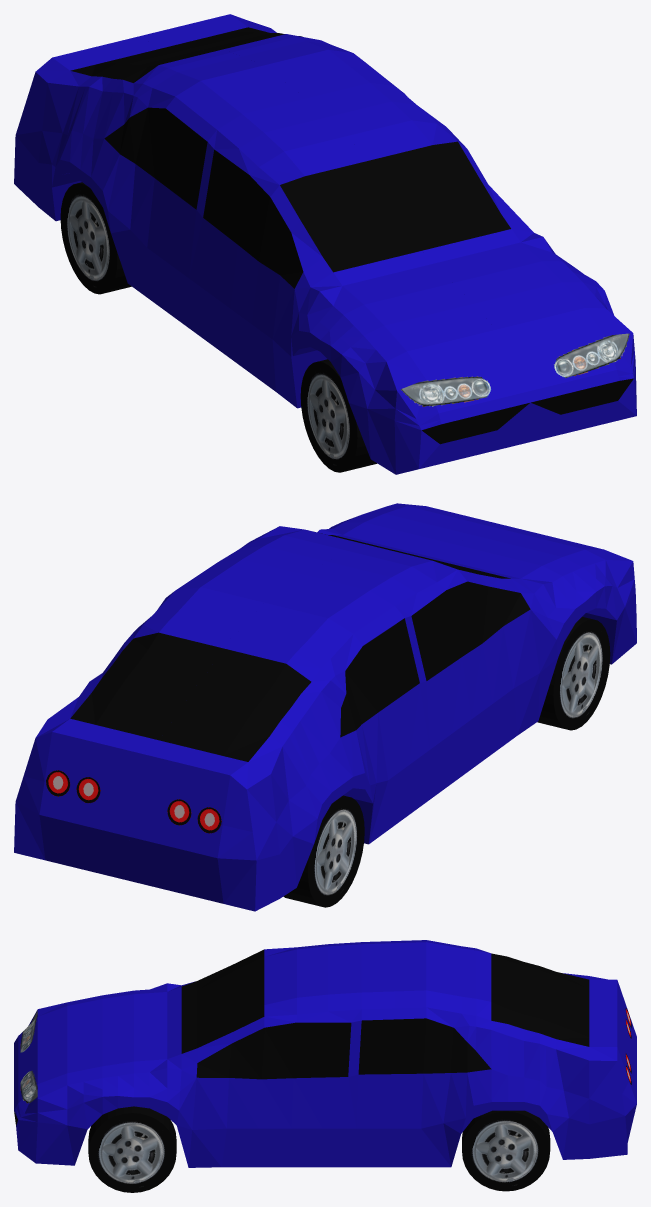
Rendered from car.obj.
3 views of the same model, one above another, from view 1: azimuth 30°, elevation 25°; view 2: azimuth 150°, elevation 25°; view 3: azimuth 270°, elevation 25° (orthographic). The views are drawn at different scales.
Visible parts, largest first — view 1: Cube_Cube.001_Materia, Cube.002_Cube.001, Cube_Cube.001_Mat, Cube.002_Cube.002_Cube.002_Cube.001, Cylinder.005_Cyli, Cylinder.004_Cyli, Cube_Cube.001_Mat.002, Cube.002_Cube.001_Mat; view 2: Cube_Cube.001_Materia, Cube.002_Cube.001, Cube_Cube.001_Mat, Cube.002_Cube.002_Cube.002_Cube.001, Cube_Cube.001_Mat.001, Cube.002_Cube_Cube.002_Cube.001, Cylinder.005_Cyli, Cylinder.004_Cyli, Cylinder.005_Cylinder; view 3: Cube.002_Cube.001, Cube.002_Cube.002_Cube.002_Cube.001, Cube_Cube.001_Materia, Cube_Cube.001_Mat, Cylinder.003_Cylinder, Cylinder_Cylinder.001, Cylinder.003_Cyli, Cube.002_Cube.001_Mat, Cylinder_Cylinder, Cube_Cube.001_Mat.002, Cube.002_Cube_Cube.002_Cube.001, Cube_Cube.001_Mat.001.
Part boxes in pixels (x1,y1,x2,y2): Cube_Cube.001_Materia: (14,36,530,474); Cube.002_Cube.001: (141,14,636,444); Cube_Cube.001_Mat: (70,48,529,444); Cube.002_Cube.002_Cube.002_Cube.001: (160,27,633,414); Cylinder.005_Cyli: (300,361,357,472); Cylinder.004_Cyli: (60,183,117,294); Cube_Cube.001_Mat.002: (397,365,495,418); Cube.002_Cube.001_Mat: (547,333,633,383); Cube_Cube.001_Materia: (128,528,636,911); Cube.002_Cube.001: (14,503,514,881); Cube_Cube.001_Mat: (159,549,530,761); Cube.002_Cube.002_Cube.002_Cube.001: (70,532,421,740); Cube_Cube.001_Mat.001: (160,761,230,858); Cube.002_Cube_Cube.002_Cube.001: (39,732,109,828); Cylinder.005_Cyli: (553,619,610,730); Cylinder.004_Cyli: (308,796,364,907); Cylinder.005_Cylinder: (537,616,591,728); Cube.002_Cube.001: (14,966,636,1167); Cube.002_Cube.002_Cube.002_Cube.001: (14,978,589,1125); Cube_Cube.001_Materia: (14,940,636,1076); Cube_Cube.001_Mat: (181,949,589,1019); Cylinder.003_Cylinder: (88,1113,176,1192); Cylinder_Cylinder.001: (462,1111,549,1191); Cylinder.003_Cyli: (88,1106,176,1151); Cube.002_Cube.001_Mat: (18,1063,37,1113); Cylinder_Cylinder: (462,1110,550,1150); Cube_Cube.001_Mat.002: (18,1010,37,1057); Cube.002_Cube_Cube.002_Cube.001: (617,1026,636,1103); Cube_Cube.001_Mat.001: (617,980,636,1057).
Bounding box in the file's own units: 3.23 × 2.69 × 8.38.
6 materials, 6 textured.
